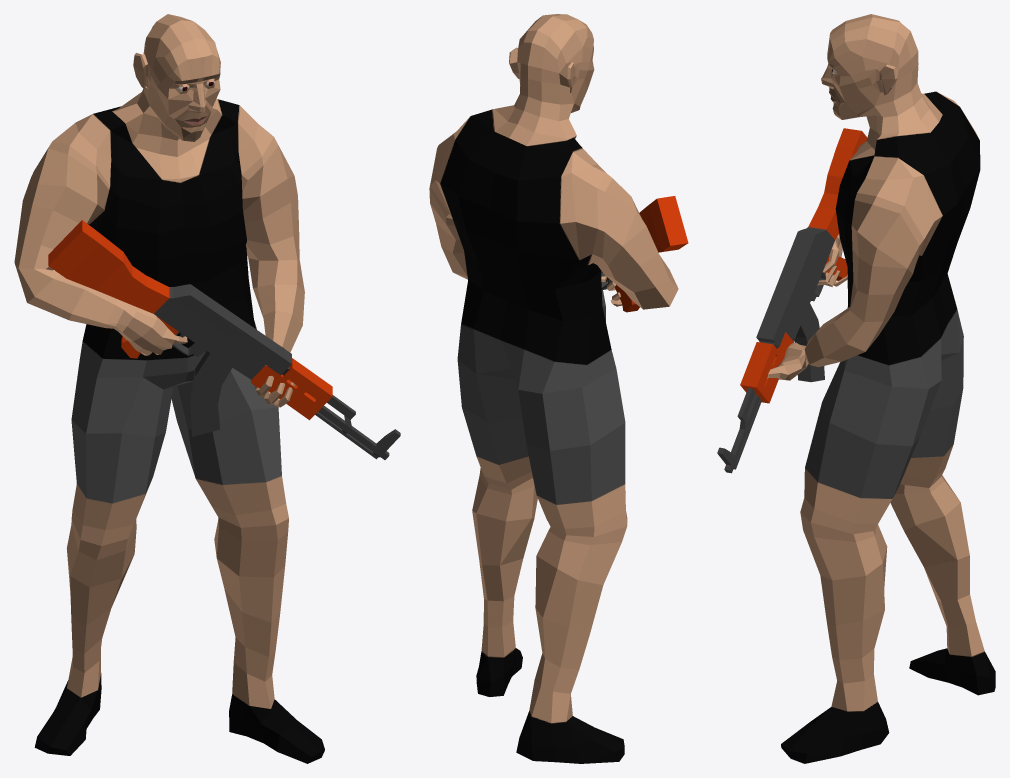
Rendered from PlayerIdle(64).obj.
3 views of the same model, side by side, from view 1: azimuth 30°, elevation 25°; view 2: azimuth 150°, elevation 25°; view 3: azimuth 270°, elevation 25° (orthographic). The views are drawn at different scales.
Parts seen in each view (by area): view 1: Plane002, Object001; view 2: Plane002, Object001; view 3: Plane002, Object001.
Boxes of the visible parts, x1=… form: Plane002: x1=14, y1=14, x2=324, y2=763; Object001: x1=48, y1=220, x2=400, y2=459; Plane002: x1=429, y1=14, x2=678, y2=763; Object001: x1=601, y1=196, x2=688, y2=321; Plane002: x1=767, y1=14, x2=995, y2=763; Object001: x1=717, y1=128, x2=867, y2=473.
Size of the model in its own units: 732 by 1800 by 653.
